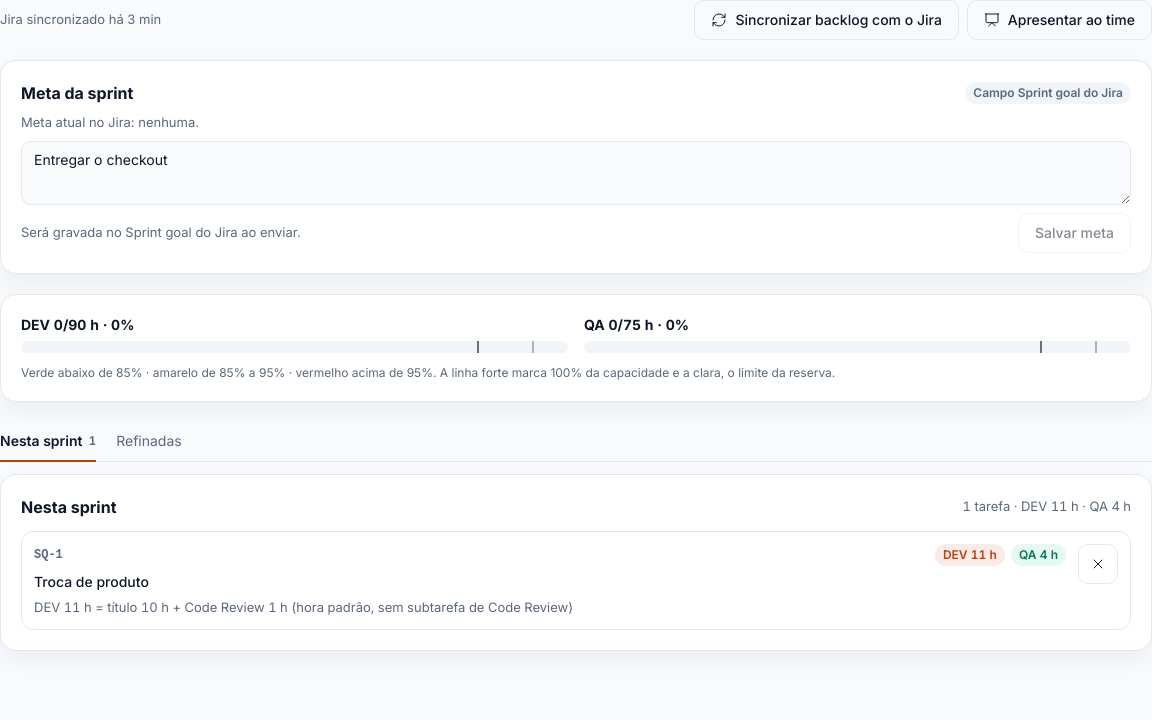
Escopo: celular › em tela estreita vira duas abas, com as barras sempre visíveis
The width and height of the screenshot is (1152, 720).
expect the element with test id "escopo-barra-DEV" is shown: met, box left=21, top=314, right=568, bottom=352
What coordinates should you click on to do the following:
click the tab "Refinadas"
I would click on:
 (149, 442)
Its box is left=116, top=422, right=182, bottom=462.
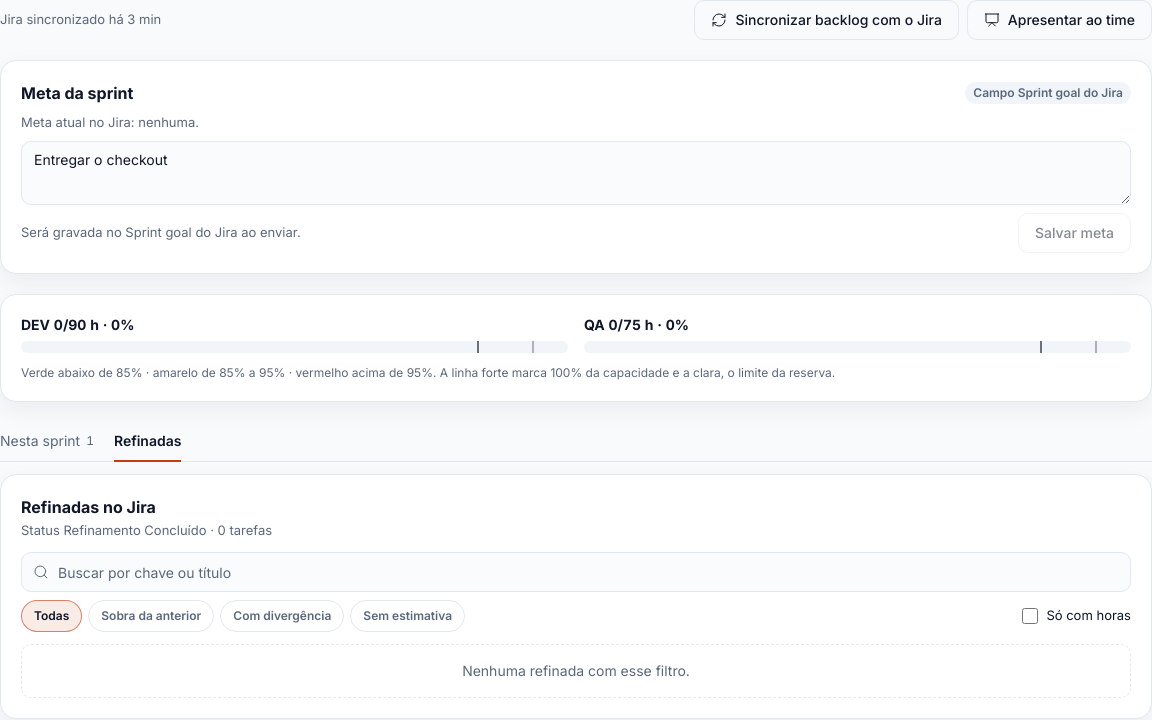
expect the list item with test id "escopo-SQ-1" is gone: met
